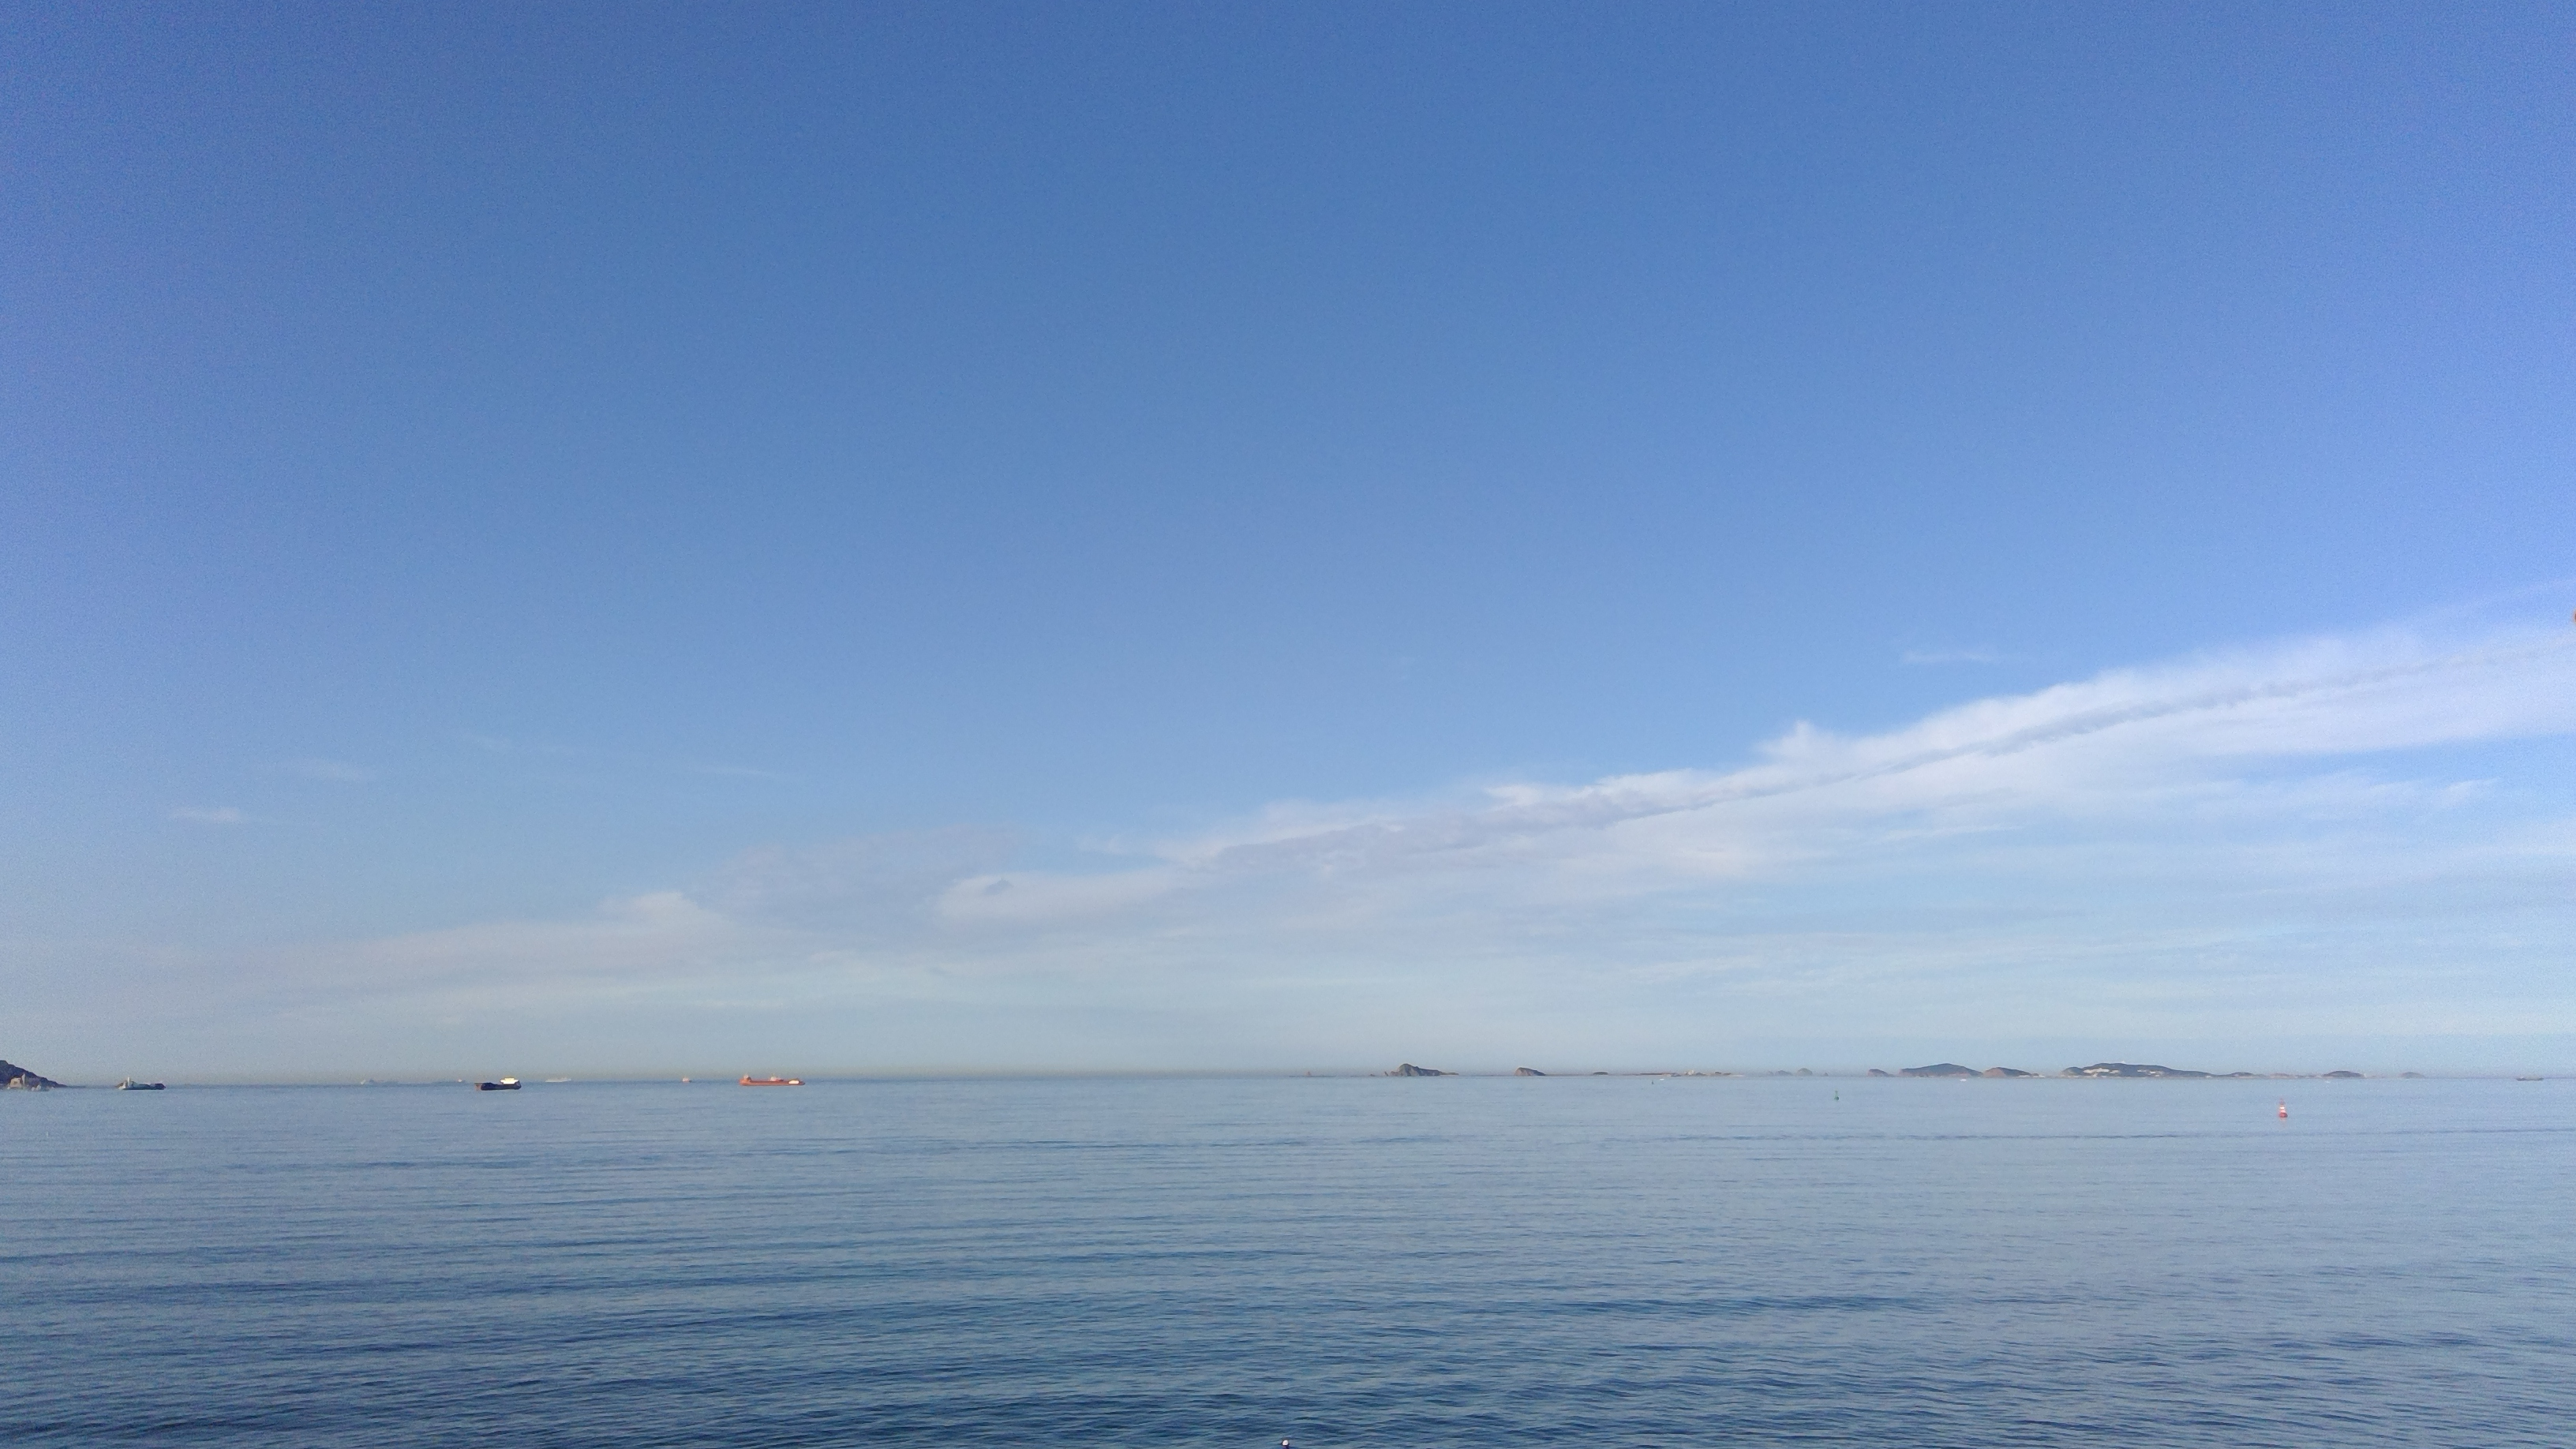rock: (0, 1040, 67, 1092)
